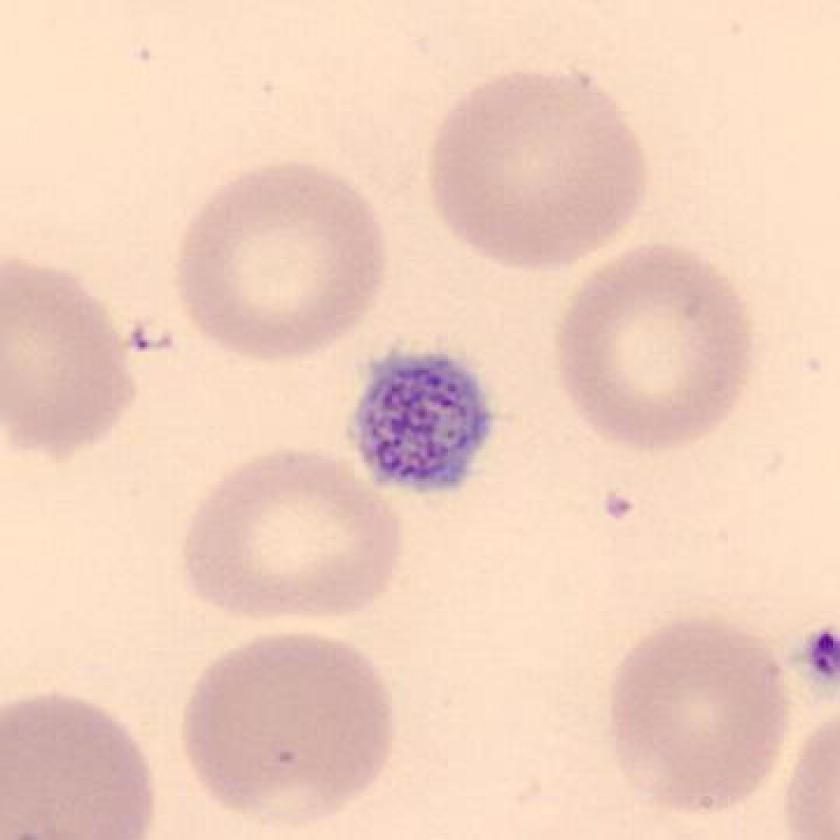platelets: (344, 346, 503, 505), (799, 624, 840, 695)
